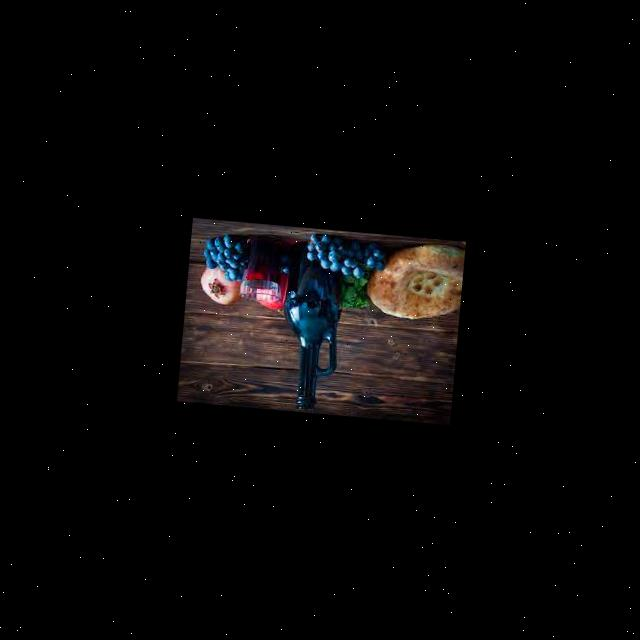grape: (303, 232, 386, 280), (200, 232, 250, 282)
